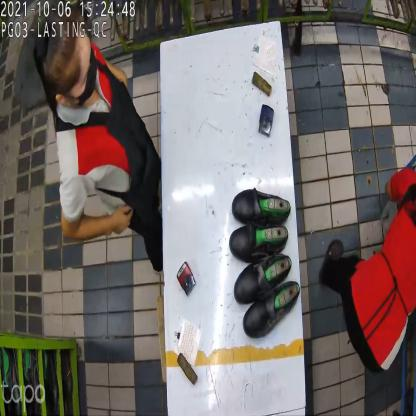shoes: (234, 258, 301, 337), (228, 190, 292, 262)
stamp: (256, 106, 277, 142), (178, 265, 196, 298)
